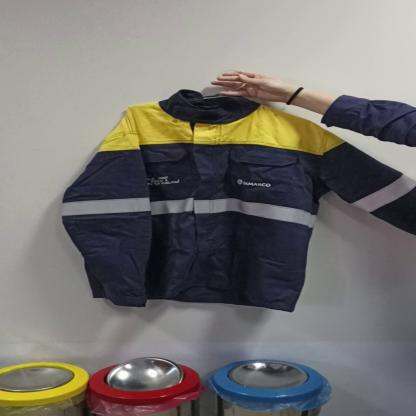C_eletrica: (57, 96, 416, 312)
